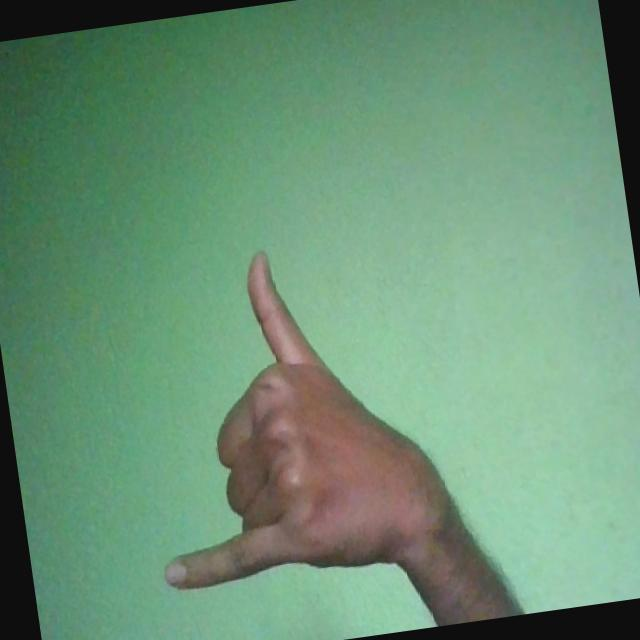Call Me: (122, 228, 460, 592)
